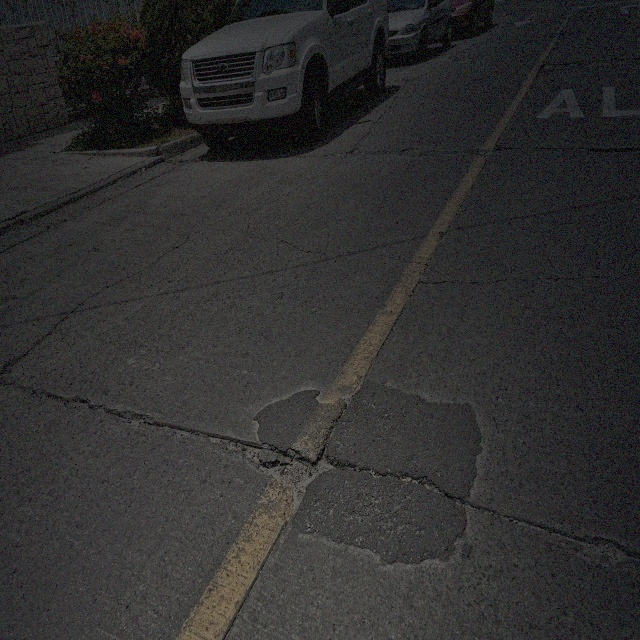pothole: (240, 445, 338, 527)
